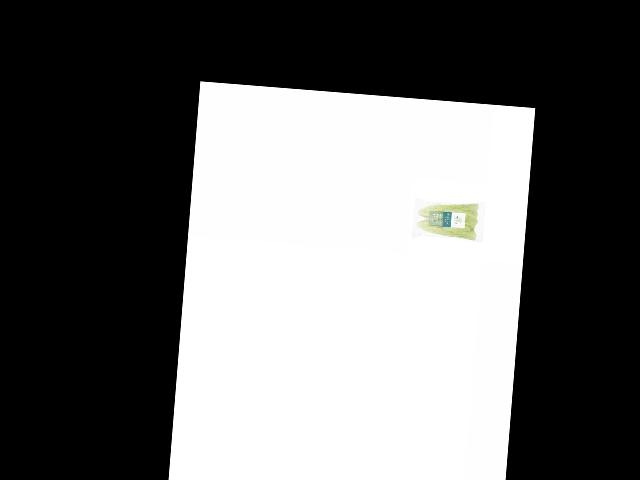lettuce: (414, 198, 481, 245)
